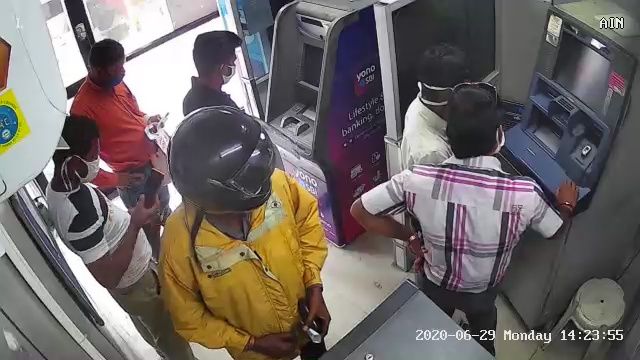helmet: (160, 105, 287, 223)
